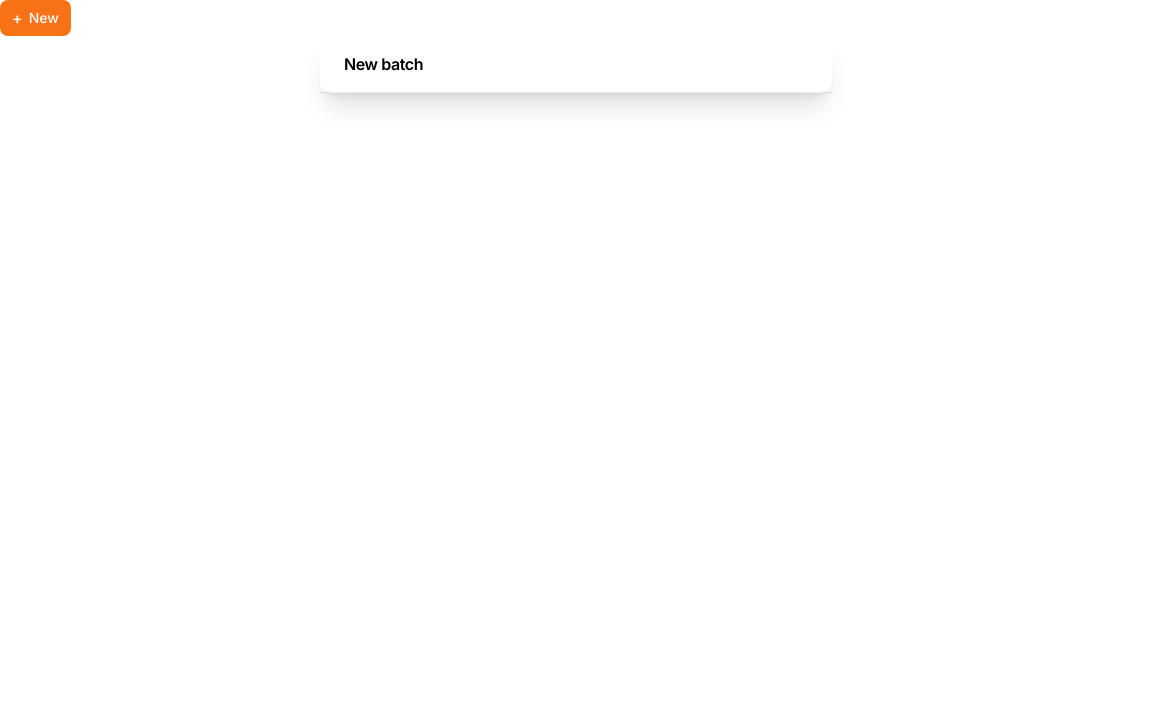
Test: NewBatchDialog › closing › closes when Cancel is clicked
Step 1. Click the button "+ New" → (35, 18), box [0,0,71,36]
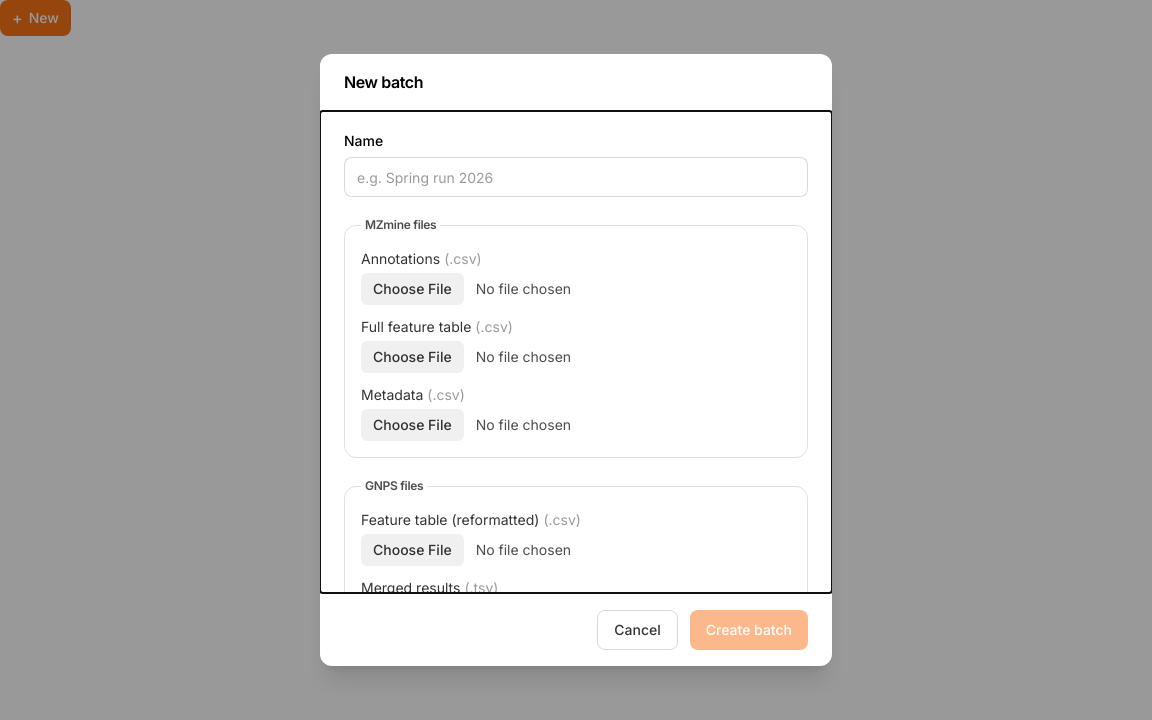
Step 2. Click the button "Cancel" → (638, 630), box [597,610,678,650]
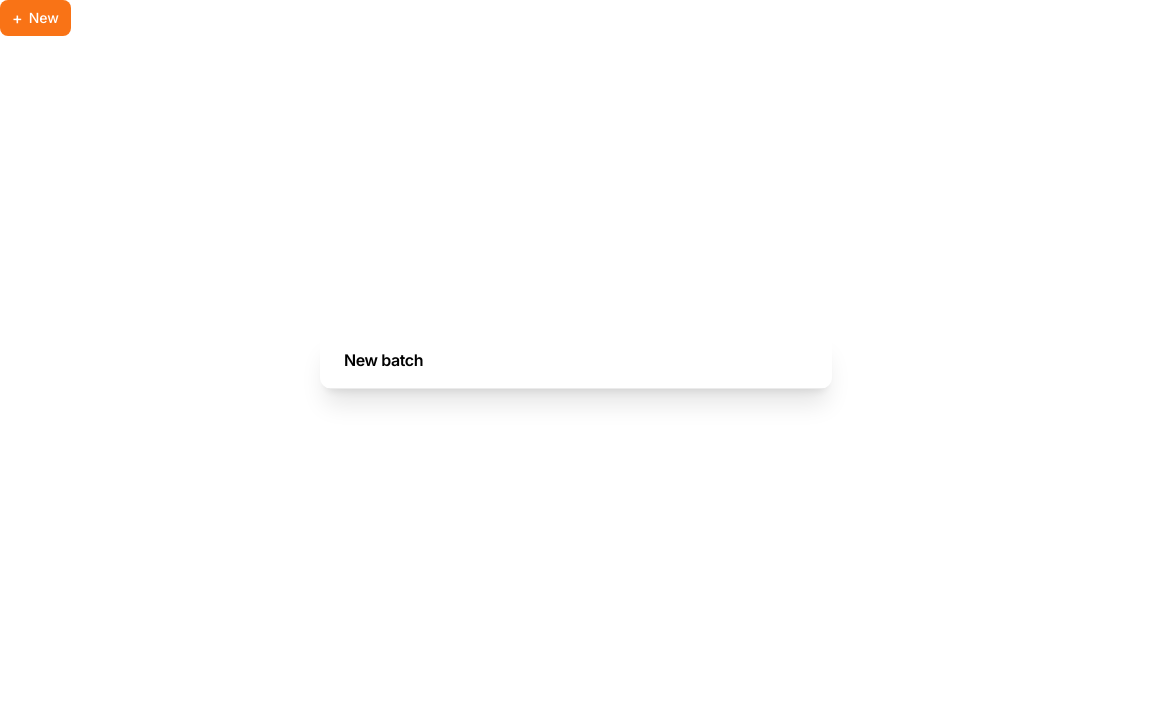
Now the dialog does not have attribute open, box [320,332,832,388]
